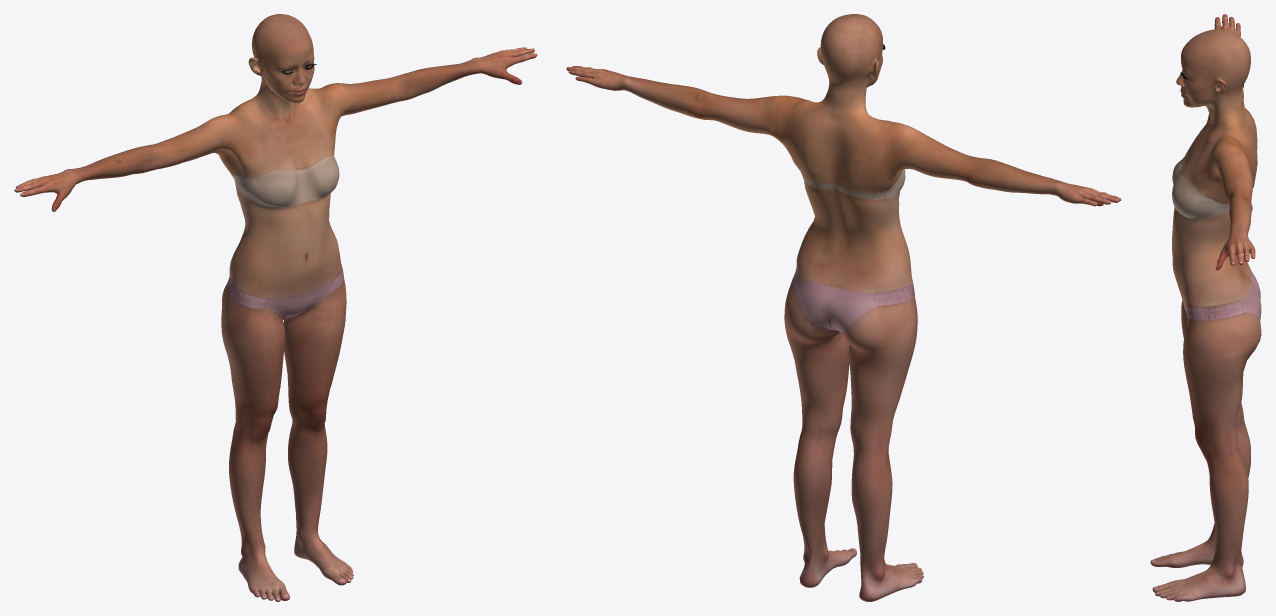
File: AsianFem1.obj
3 renders of one model, left to right at view 1: azimuth 30°, elevation 25°; view 2: azimuth 150°, elevation 25°; view 3: azimuth 270°, elevation 25°, orthographic. The views are drawn at different scales.
Visible parts, largest first — view 1: Body; view 2: Body; view 3: Body.
Part boxes in pixels (x1,y1,x2,y2): Body: (14,14,537,601); Body: (566,14,1121,601); Body: (1150,14,1261,601).
Size of the model in its own units: 163 by 163 by 30.02.
